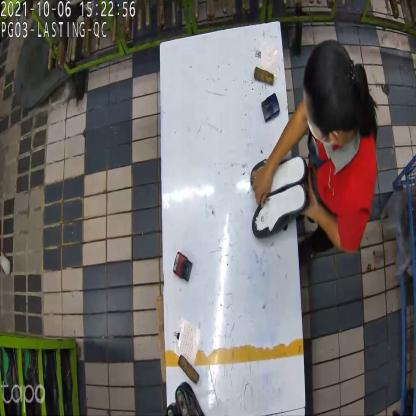shoes: (249, 145, 309, 242)
stamp: (173, 250, 195, 283), (260, 91, 280, 125)
